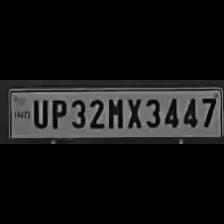2: (87, 96, 105, 130)
3: (68, 96, 86, 130), (142, 96, 160, 128)
4: (162, 96, 178, 128), (180, 95, 196, 127)
7: (198, 94, 216, 128)
M: (105, 95, 123, 129)
P: (47, 96, 66, 128)
U: (29, 96, 47, 128)
X: (124, 95, 142, 129)
